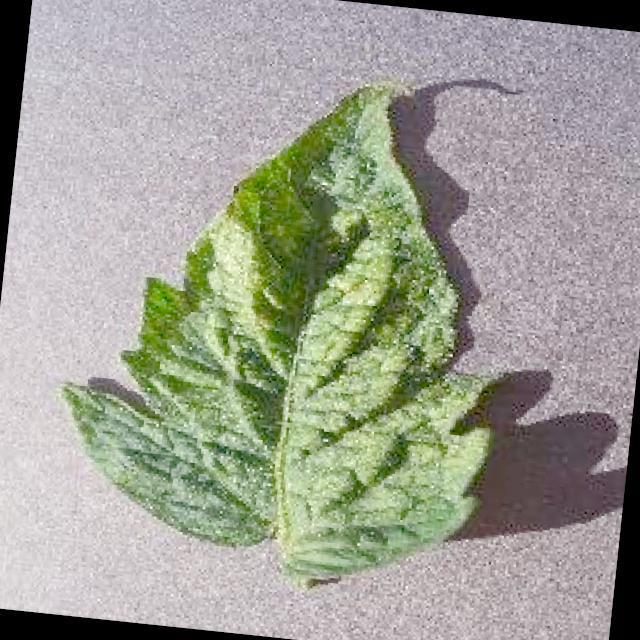Tomato spider mites leaf: (46, 51, 530, 600)
